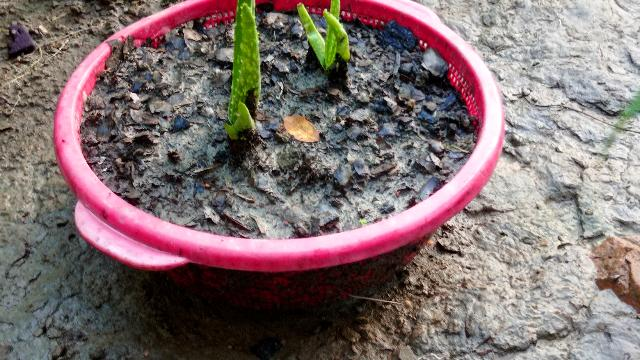hardplastic: (52, 3, 513, 286)
